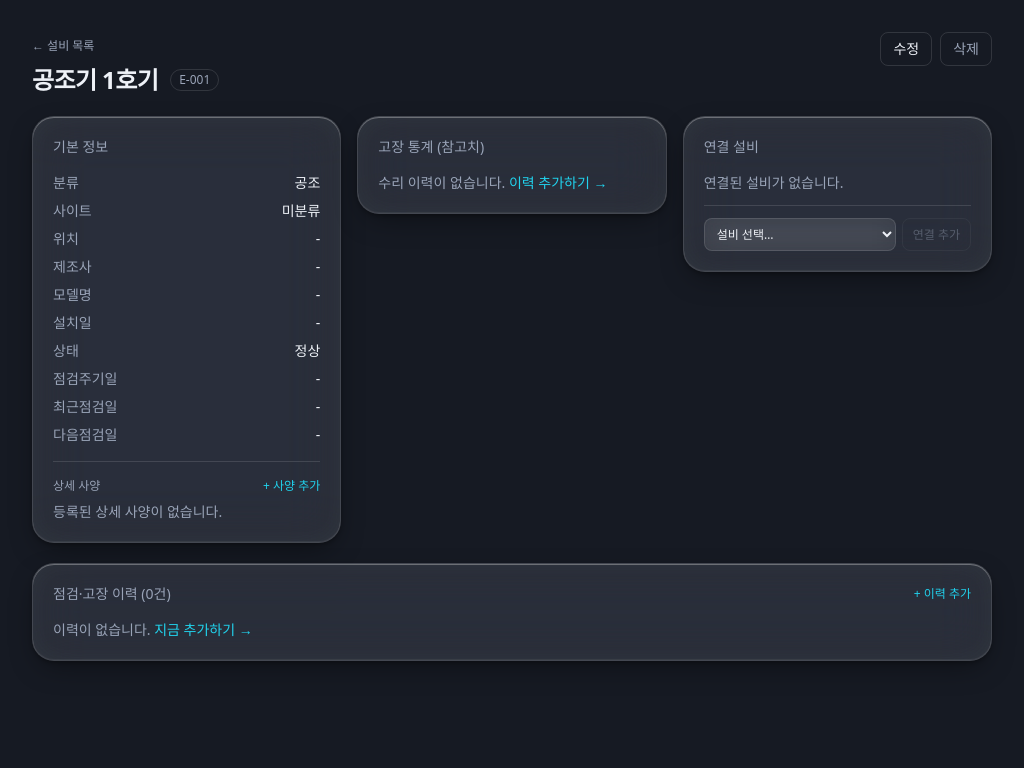
EquipmentDetail › + 이력 추가 폼으로 등록하면 이 설비ID로 store에 반영된다
The width and height of the screenshot is (1024, 768).
Click the button "+ 이력 추가" at (942, 594), box [914, 586, 971, 602]
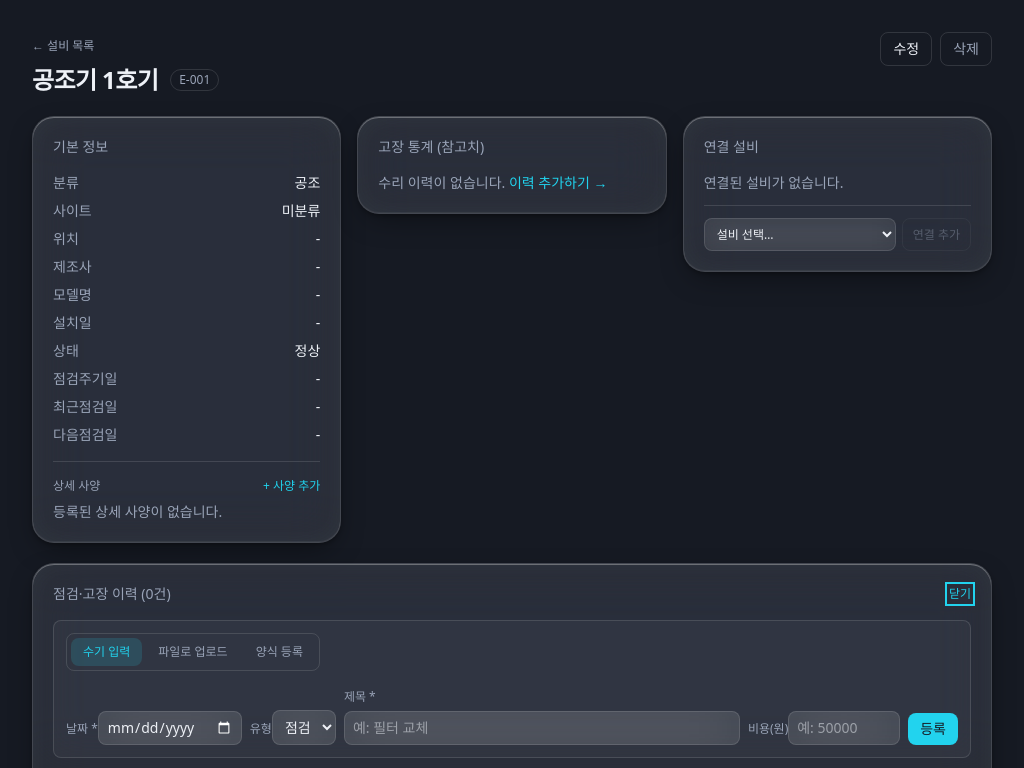
Type "2026-07-21" into the date field labelled "날짜 *" at (170, 728), box [98, 711, 242, 745]
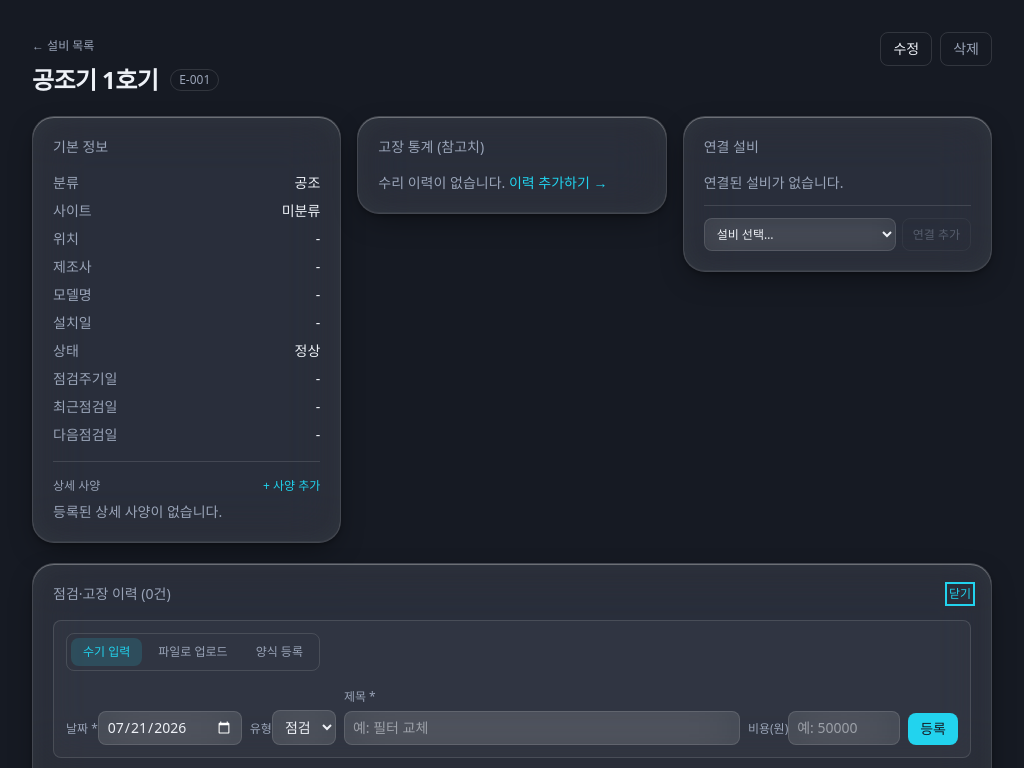
Type "필터 교체" into the field labelled "제목 *" at (542, 728), box [344, 711, 740, 745]
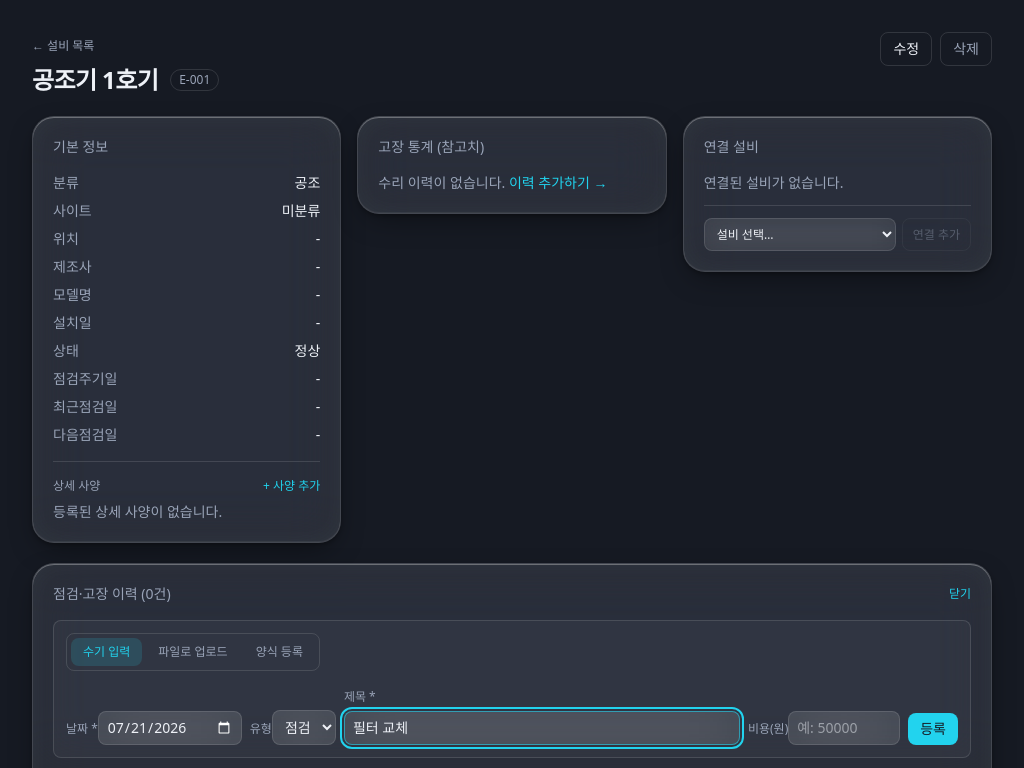
Click the button "등록" at (933, 729), box [908, 713, 958, 745]
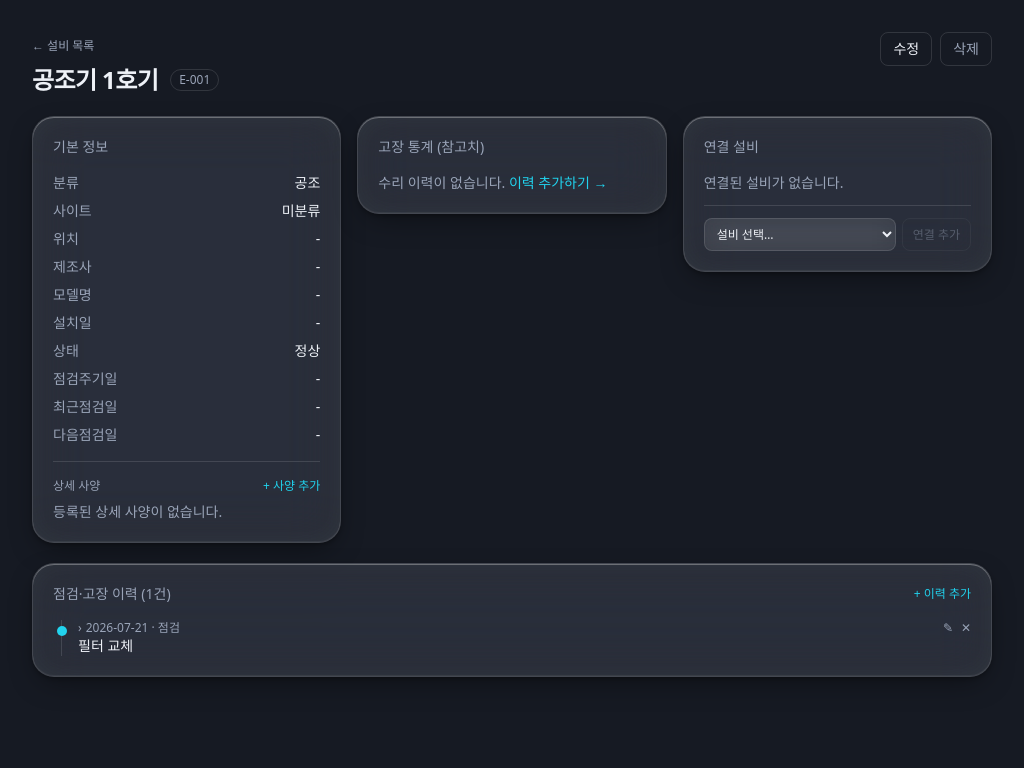
Expected: the text "E-001" is shown, [170, 69, 219, 91]
Now the text "필터 교체" is shown, box [78, 636, 133, 655]
